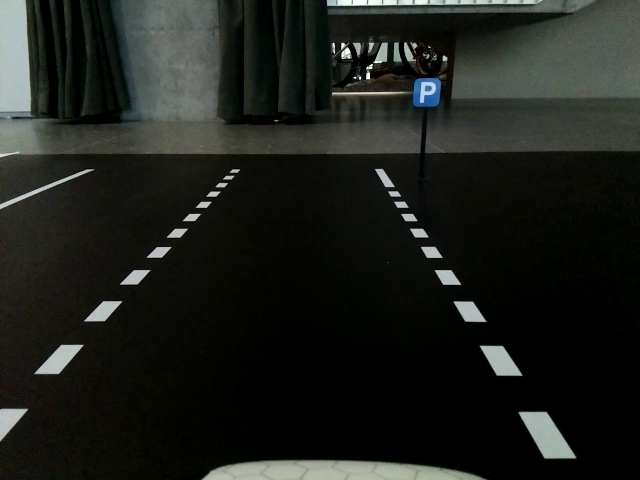park: (413, 77, 441, 107)
